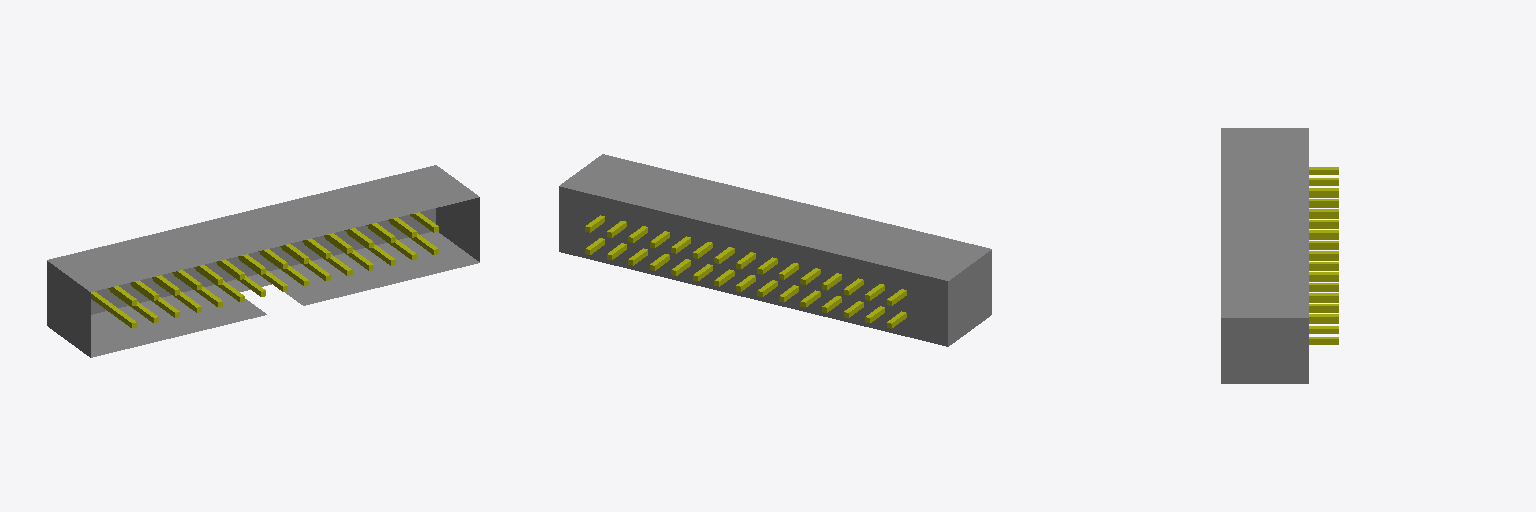
File: idc-hdr-2x15-straight-2.54.obj
3 renders of one model, left to right at view 1: azimuth 30°, elevation 25°; view 2: azimuth 150°, elevation 25°; view 3: azimuth 270°, elevation 25°, orthographic.
Parts seen in each view (by area): view 1: Back_wall_Plane.004, Front_wall_Plane.003, Bottom_wall_Plane.002, Left_wall_Case, Right_wall_Plane.005; view 2: Bottom_wall_Plane.002, Back_wall_Plane.004, Left_wall_Case; view 3: Back_wall_Plane.004, Right_wall_Plane.005.
Boxes of the visible parts, <box> form: Back_wall_Plane.004: <box>47,165,478,291</box>; Front_wall_Plane.003: <box>91,232,479,357</box>; Bottom_wall_Plane.002: <box>91,208,435,314</box>; Left_wall_Case: <box>47,261,90,357</box>; Right_wall_Plane.005: <box>436,197,479,261</box>; Bottom_wall_Plane.002: <box>559,186,947,346</box>; Back_wall_Plane.004: <box>560,154,991,280</box>; Left_wall_Case: <box>948,250,991,346</box>; Back_wall_Plane.004: <box>1221,128,1308,317</box>; Right_wall_Plane.005: <box>1221,318,1308,383</box>.
Size of the model in its own units: 46 by 7.4 by 12.07.